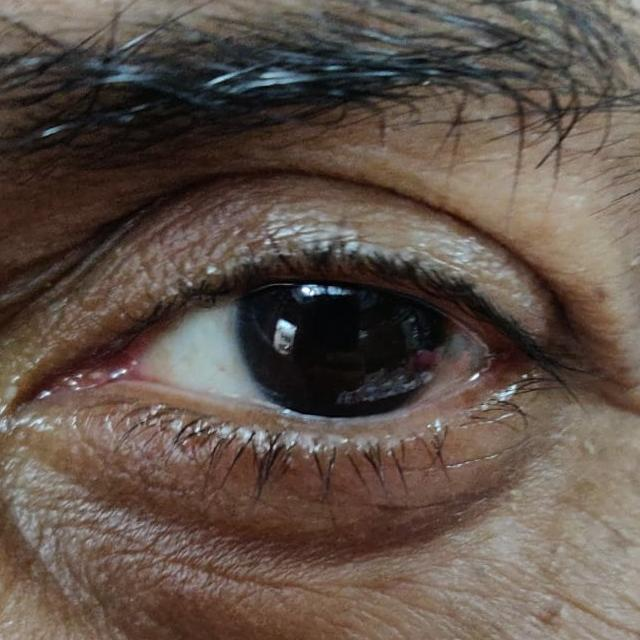eye: (138, 281, 492, 419)
iris: (236, 286, 454, 415)
